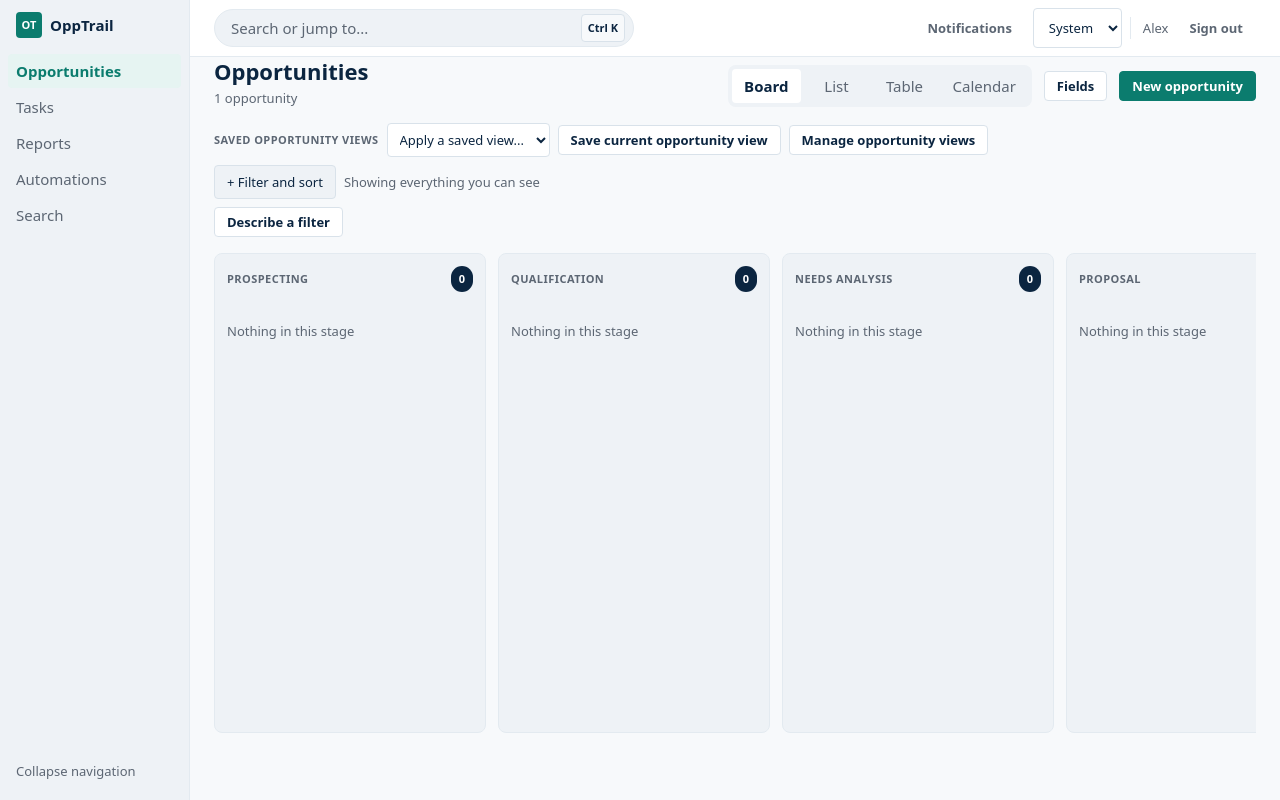
Test: the command palette › opens from the top bar as well, for a reader who has never pressed Ctrl K
Expected: the heading "Opportunities" is shown, [214,57,368,85]
Step 1. Click the button "Search or jump to... Ctrl K" → (300, 28), box [214,9,634,47]
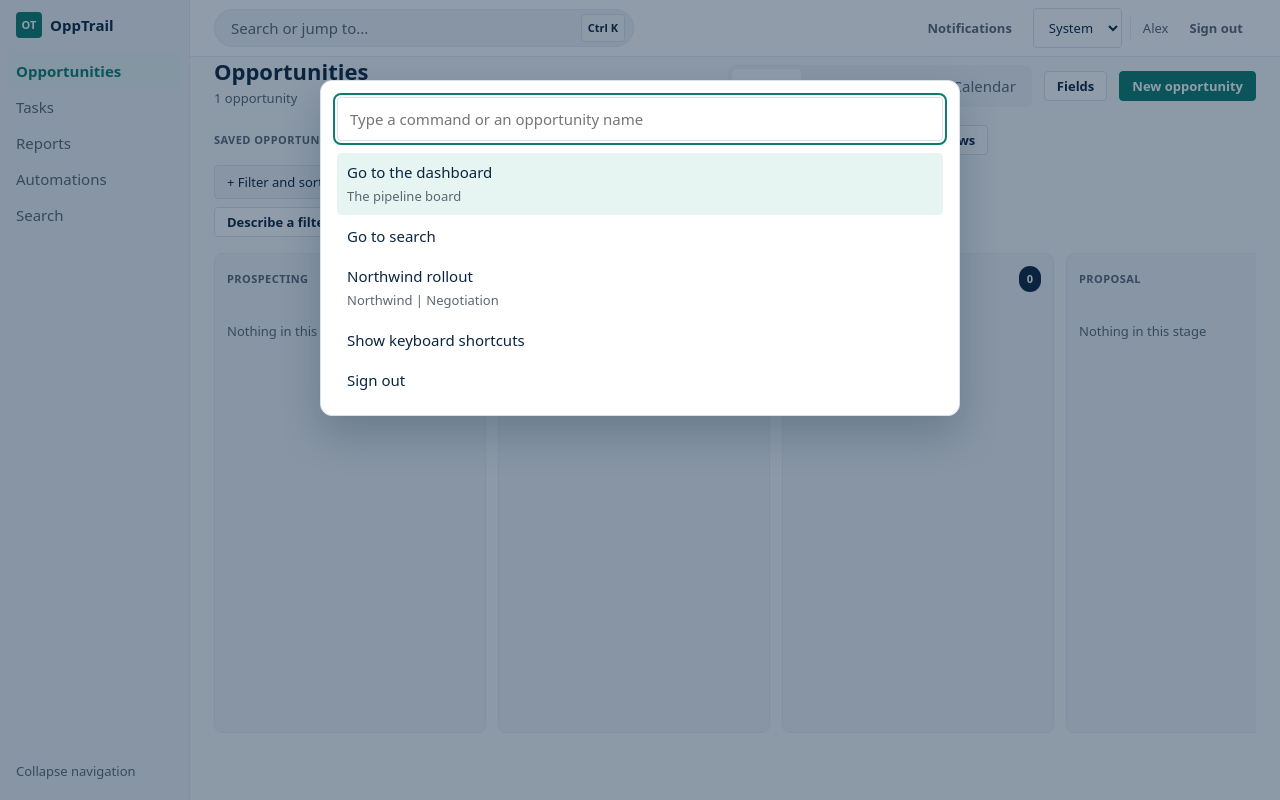
Now the dialog named "Command palette" is shown, box [320,80,960,416]
